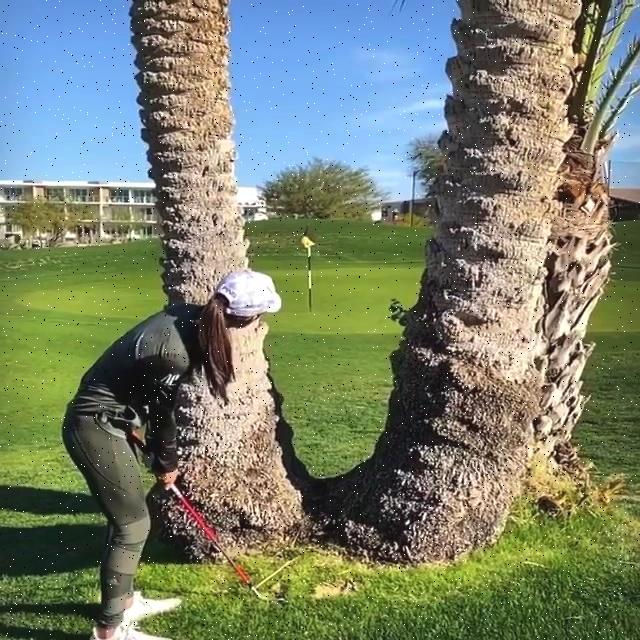golf club-handle: (129, 431, 289, 606)
golf club-head: (263, 595, 286, 604)
